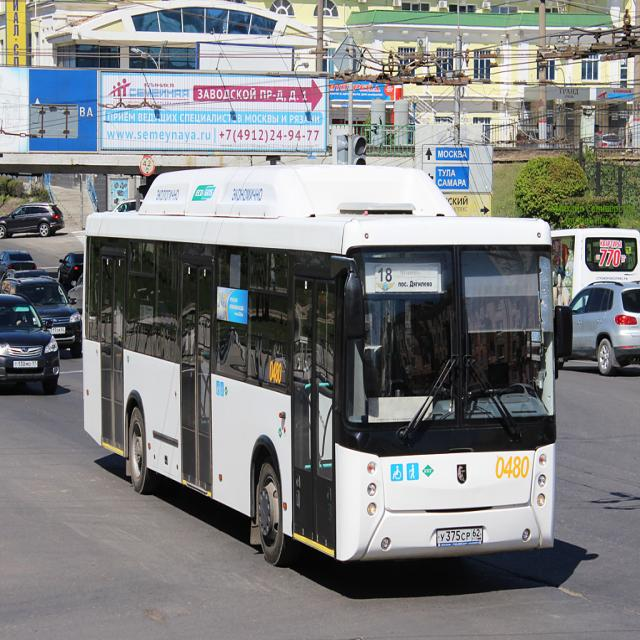number-of-bus: (378, 267, 397, 285)
